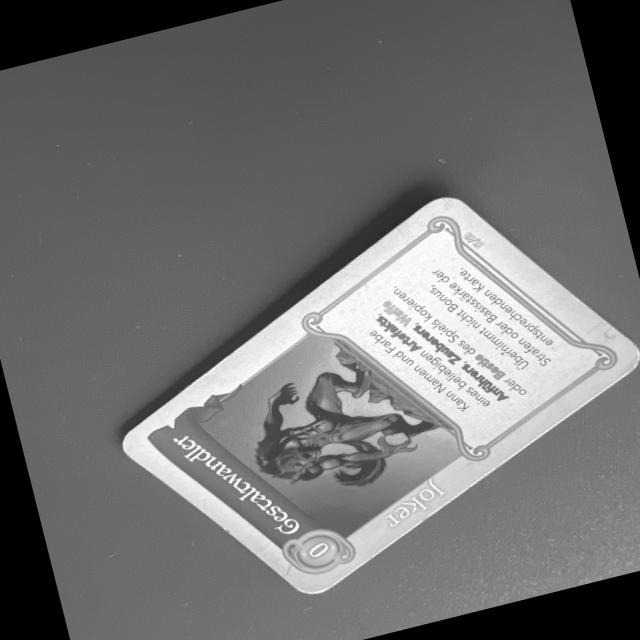Shapeshifter: (112, 191, 640, 600)
